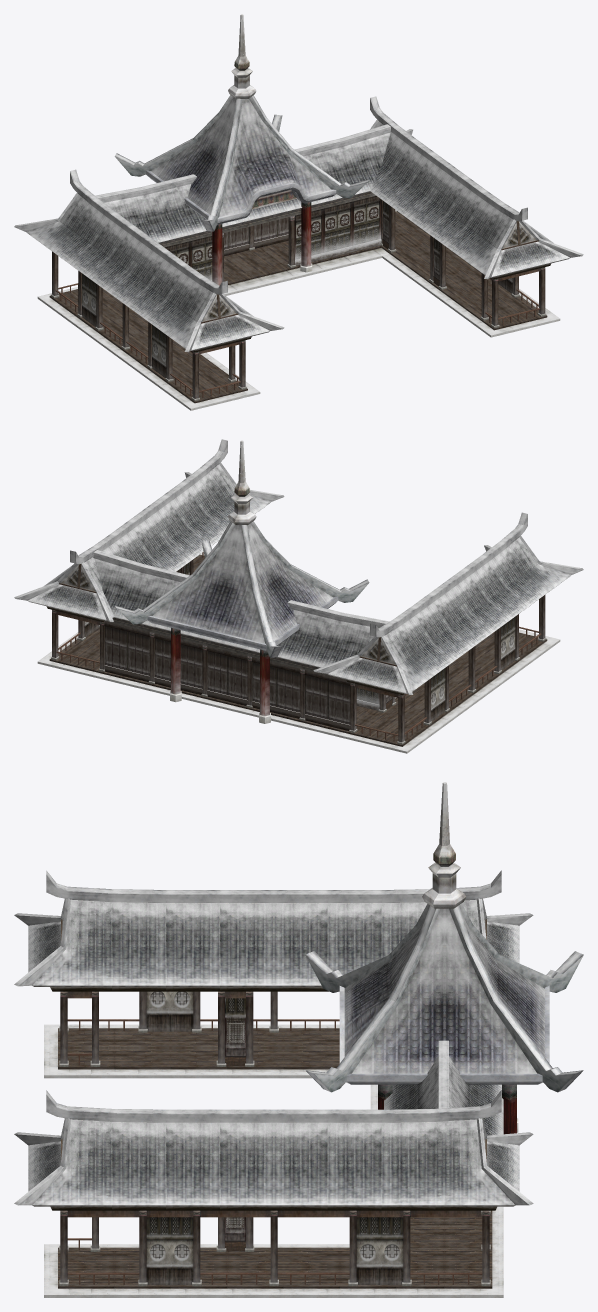
File: snow_building04.glb
3 views of the same model, one above another, from view 1: azimuth 30°, elevation 25°; view 2: azimuth 150°, elevation 25°; view 3: azimuth 270°, elevation 25° (orthographic). The views are drawn at different scales.
Parts seen in each view (by area): view 1: snow_building04; view 2: snow_building04; view 3: snow_building04.
Part boxes in pixels (left/top/right/bottom): snow_building04: left=14, top=14, right=583, bottom=410; snow_building04: left=14, top=439, right=583, bottom=753; snow_building04: left=14, top=782, right=583, bottom=1297.
Size of the model in its own units: 69.19 by 41.96 by 57.02.
Materials: 3 (3 with a texture image).
